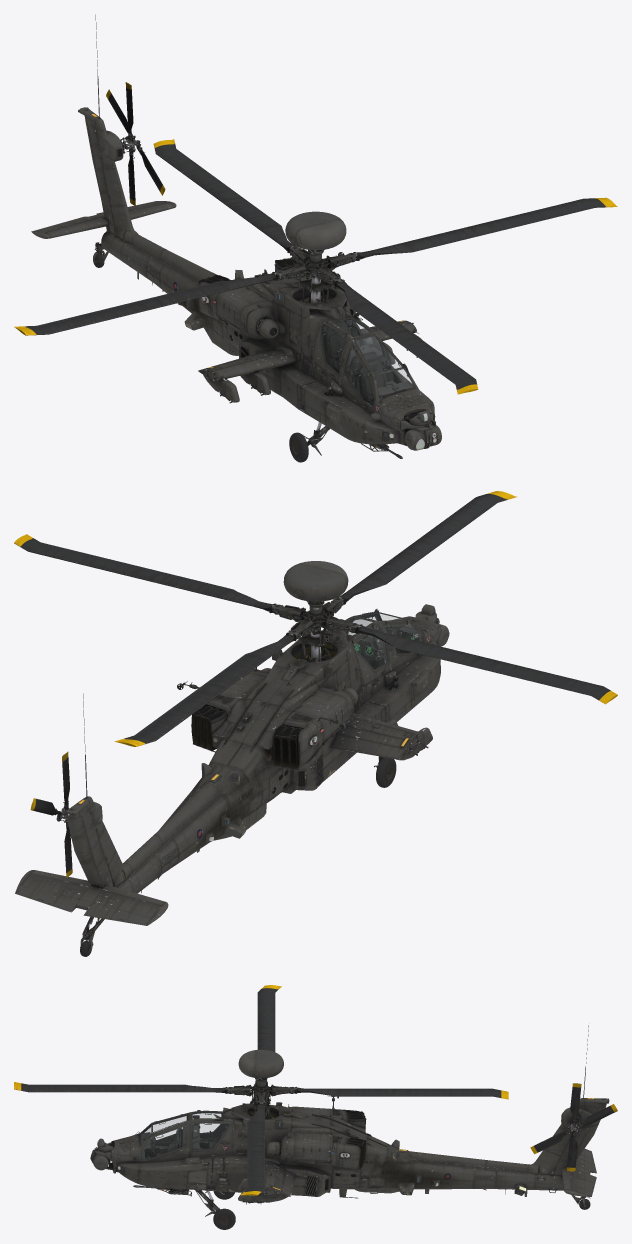
The model's file is apache-optimized.glb.
3 views of the same model, one above another, from view 1: azimuth 30°, elevation 25°; view 2: azimuth 150°, elevation 25°; view 3: azimuth 270°, elevation 25° (orthographic). The views are drawn at different scales.
Parts seen in each view (by area): view 1: Object_12, Object_7, Object_10, Object_23, Object_4, Object_5; view 2: Object_12, Object_7, Object_4, Object_10, Object_23, Object_5; view 3: Object_12, Object_7, Object_10, Object_23, Object_5, Object_4.
Part boxes in pixels (box(x1,y1,x2,y2)): Object_12: box(31, 14, 441, 462); Object_7: box(14, 139, 617, 394); Object_10: box(201, 297, 437, 449); Object_23: box(321, 317, 414, 410); Object_4: box(285, 211, 346, 259); Object_5: box(106, 82, 165, 205); Object_12: box(15, 597, 449, 956); Object_7: box(14, 491, 617, 746); Object_4: box(283, 561, 348, 611); Object_10: box(68, 613, 423, 815); Object_23: box(344, 612, 424, 669); Object_5: box(30, 751, 72, 877); Object_12: box(90, 1025, 609, 1229); Object_7: box(14, 985, 508, 1195); Object_10: box(93, 1101, 609, 1160); Object_23: box(140, 1111, 229, 1160); Object_5: box(530, 1083, 617, 1171); Object_4: box(238, 1049, 283, 1085).
Size of the model in its own units: 14.55 by 6.21 by 17.76.
Materials: 12 (9 with a texture image).
